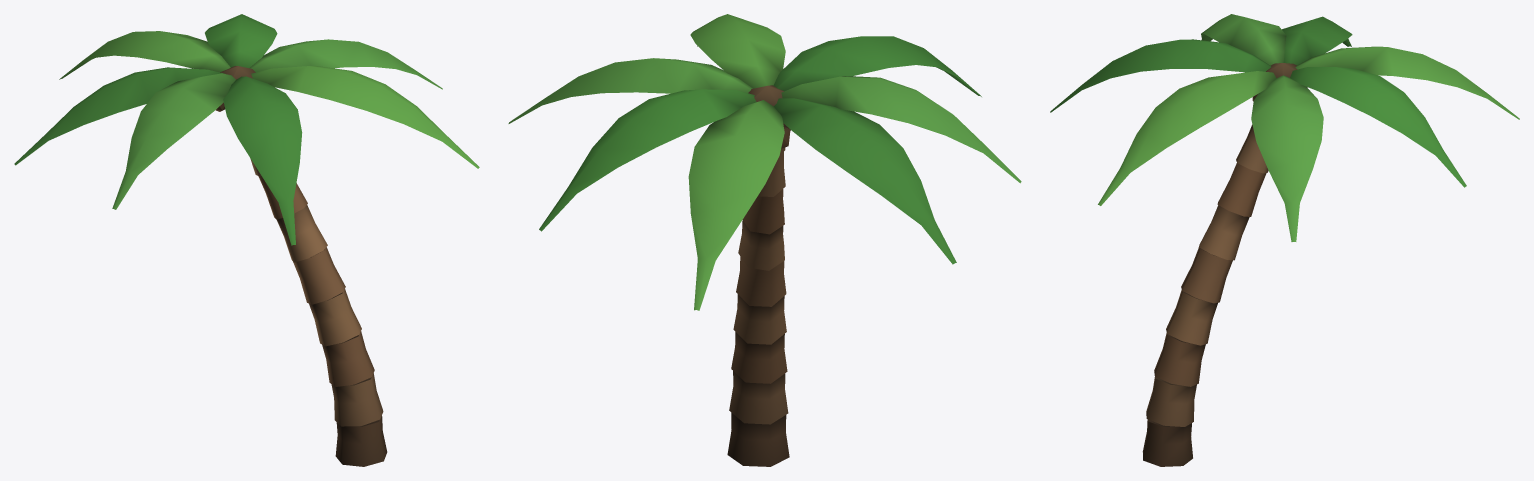
The model's file is PB_Palm_B.glb.
The picture shows the model from 3 angles, left to right: view 1: azimuth 30°, elevation 25°; view 2: azimuth 150°, elevation 25°; view 3: azimuth 270°, elevation 25°; orthographic projection. The views are drawn at different scales.
Parts seen in each view (by area): view 1: PB_Palm_B_2_SmoothPlastic, PB_Palm_B_1_Wood; view 2: PB_Palm_B_2_SmoothPlastic, PB_Palm_B_1_Wood; view 3: PB_Palm_B_2_SmoothPlastic, PB_Palm_B_1_Wood.
Part boxes in pixels (x1,y1,x2,y2): PB_Palm_B_2_SmoothPlastic: (14,14,479,245); PB_Palm_B_1_Wood: (215,66,387,466); PB_Palm_B_2_SmoothPlastic: (508,14,1021,310); PB_Palm_B_1_Wood: (727,85,790,466); PB_Palm_B_2_SmoothPlastic: (1050,14,1519,241); PB_Palm_B_1_Wood: (1142,63,1307,466).
Bounding box in the file's own units: 14.57 × 13.1 × 14.85.
